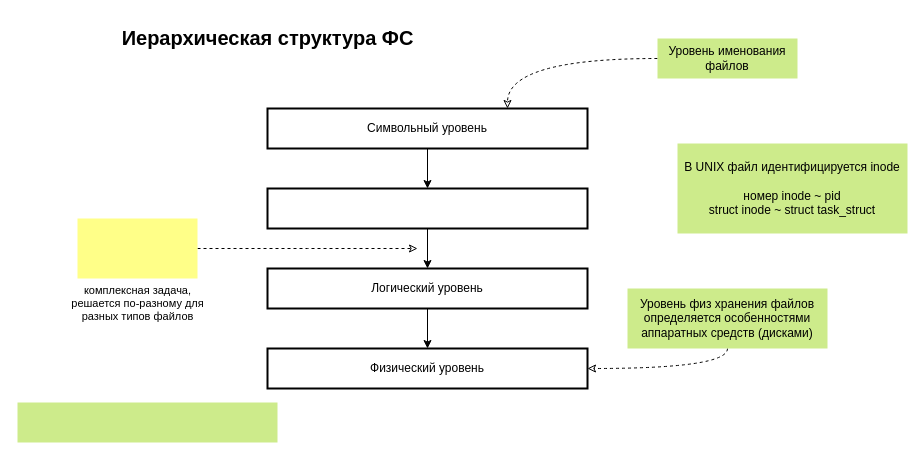
The diagram is 924 pixels wide and 459 high, and some of its shapes have lost their labels. The centre of each missing label's shape, as x and y in pixels:
"Базовый уровень" goes at pixel 427 208.
"Проверка прав доступа" goes at pixel 137 248.
"Файл может занимать разные блоки на диске (зависит от организации физ памяти)" goes at pixel 147 422.
